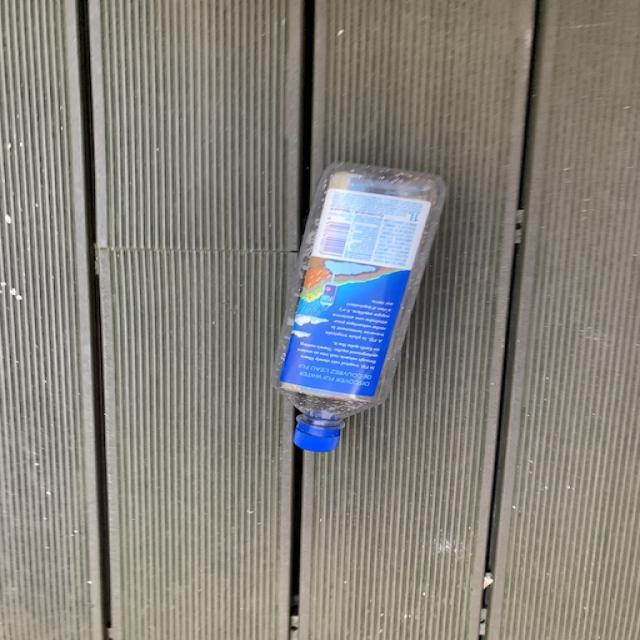Plastic: (274, 162, 446, 453)
